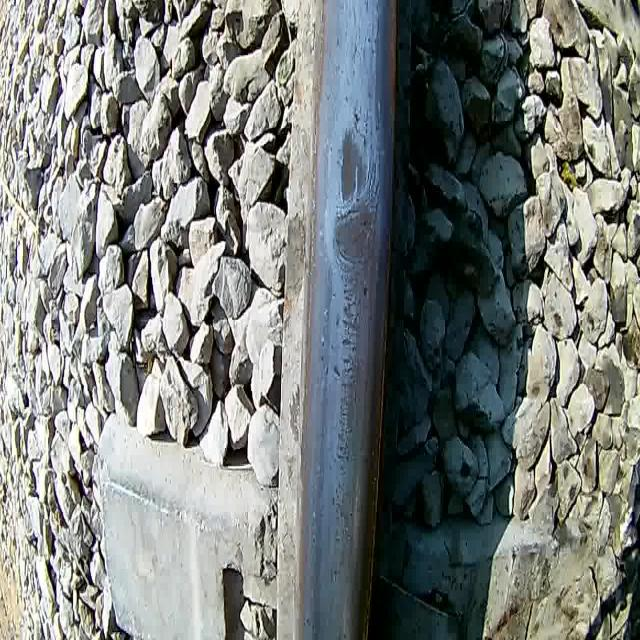Squats: (331, 194, 382, 276), (337, 122, 369, 205)
